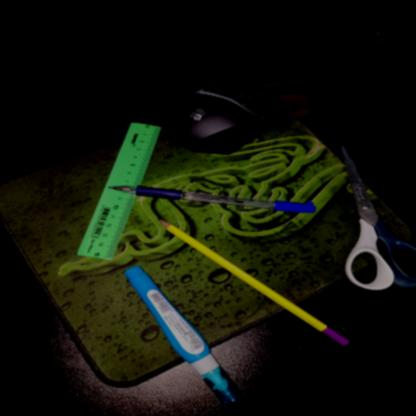Pen: (104, 176, 320, 216)
